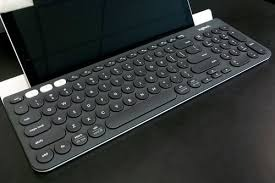keyboard: (2, 13, 275, 183)
